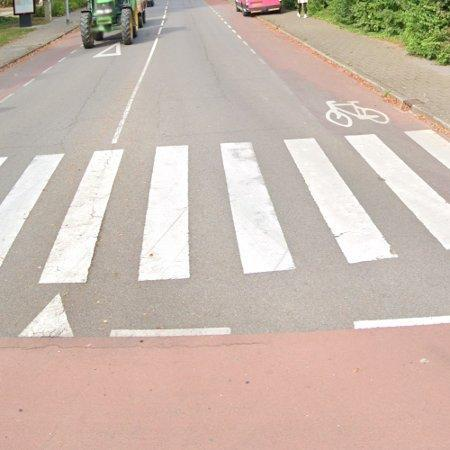crosswalk: (0, 129, 450, 288)
